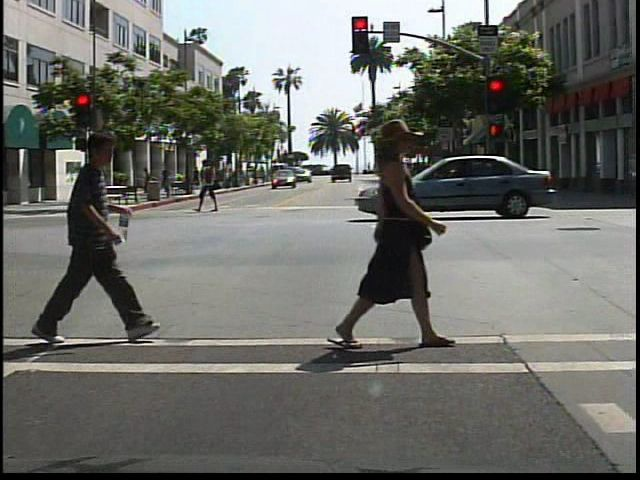person: (330, 120, 457, 354), (41, 128, 141, 347), (199, 156, 226, 214), (140, 164, 160, 203)
